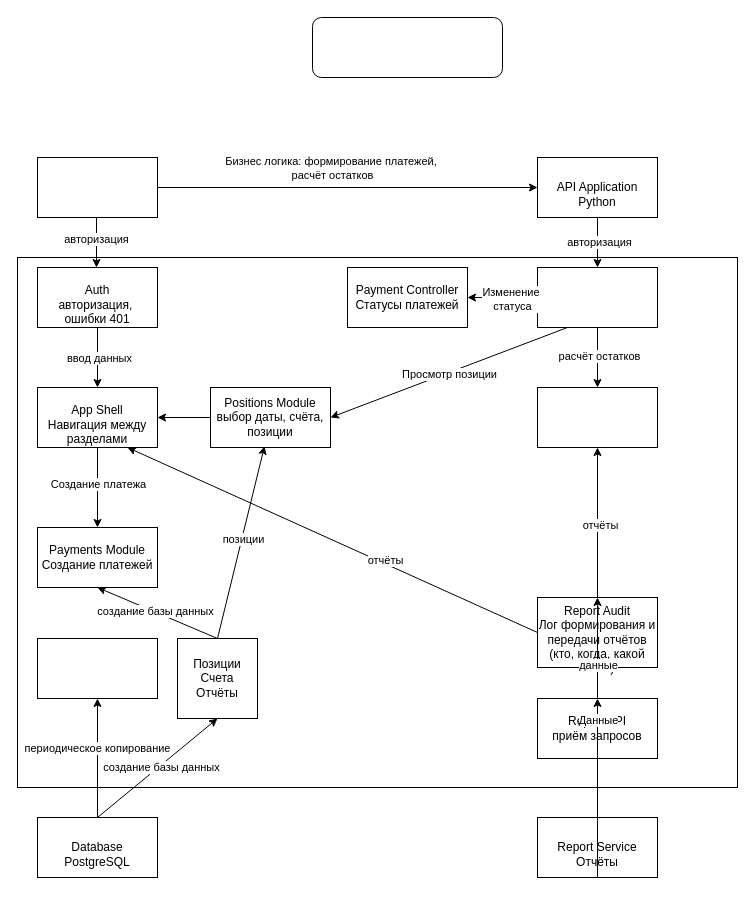
Some shapes in this 755 by 903 pixel diagram are drawn without their labels. The centre of each missing label's shape, as x and y in pixels:
"ackup & Recovery резервное копирование" belongs at pixel 97 668.
"Auth авторизация" belongs at pixel 597 297.
"Balance Controller отстатки" belongs at pixel 597 417.
"Web JavaScript Вэб клиент" belongs at pixel 97 187.
"Уровень 3 - Компоненты" belongs at pixel 407 47.
